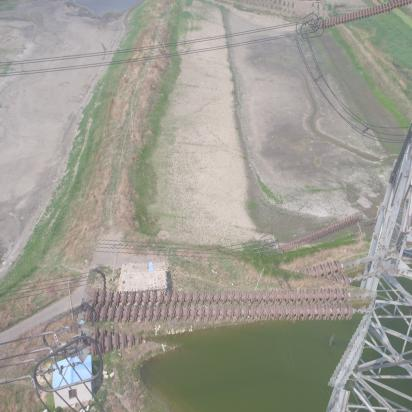insulator: (81, 241, 374, 376), (275, 217, 367, 251), (315, 1, 412, 30)
